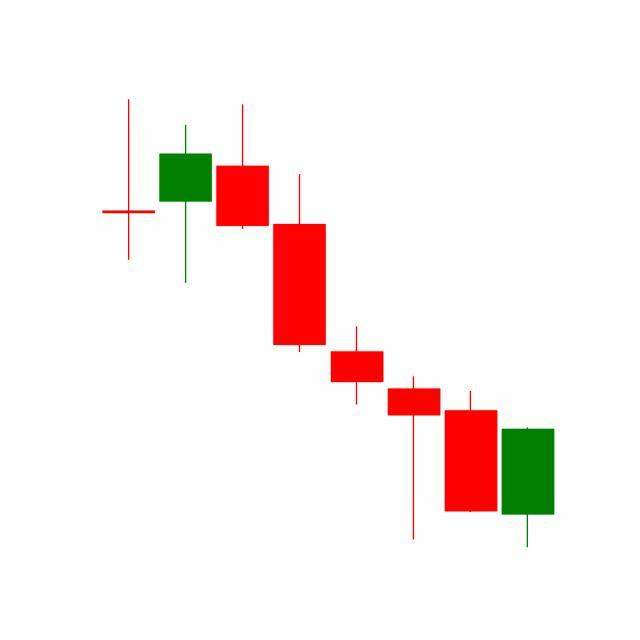Hikkake Pattern: (270, 170, 555, 549)
